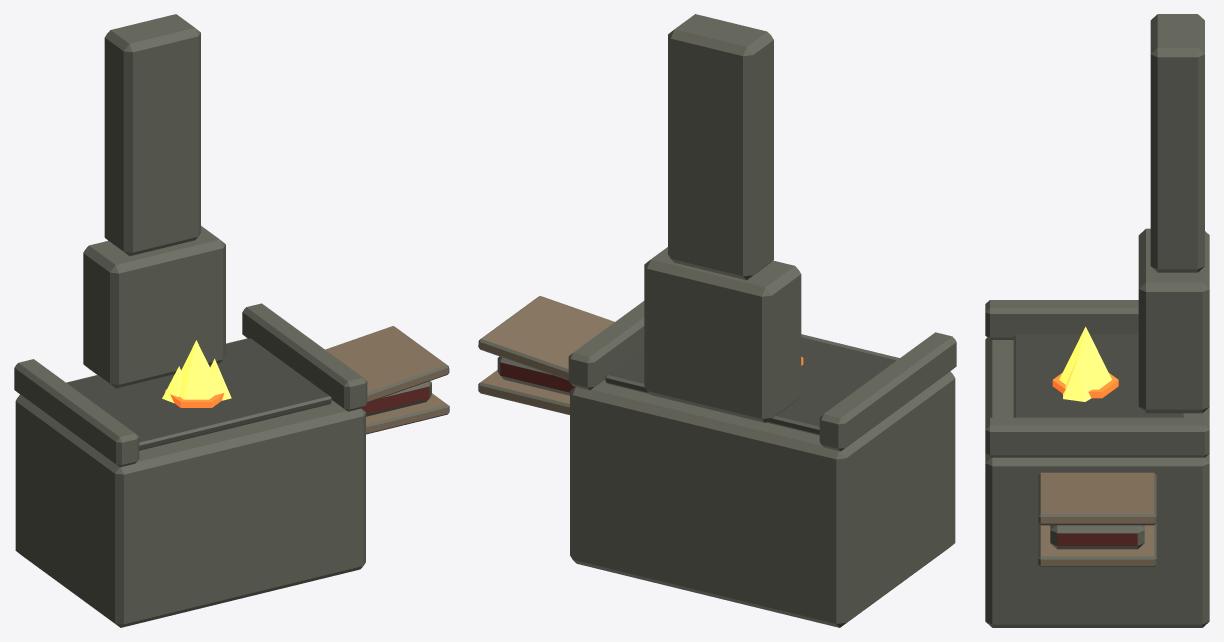
File: forge.glb
3 renders of one model, left to right at view 1: azimuth 30°, elevation 25°; view 2: azimuth 150°, elevation 25°; view 3: azimuth 270°, elevation 25°, orthographic. The views are drawn at different scales.
Visible parts, largest first — view 1: Forge; view 2: Forge; view 3: Forge.
Part boxes in pixels (x1=…): Forge: x1=14, y1=14, x2=449, y2=627; Forge: x1=478, y1=14, x2=956, y2=627; Forge: x1=985, y1=14, x2=1209, y2=627.
Size of the model in its own units: 1.85 by 2.5 by 0.95.
